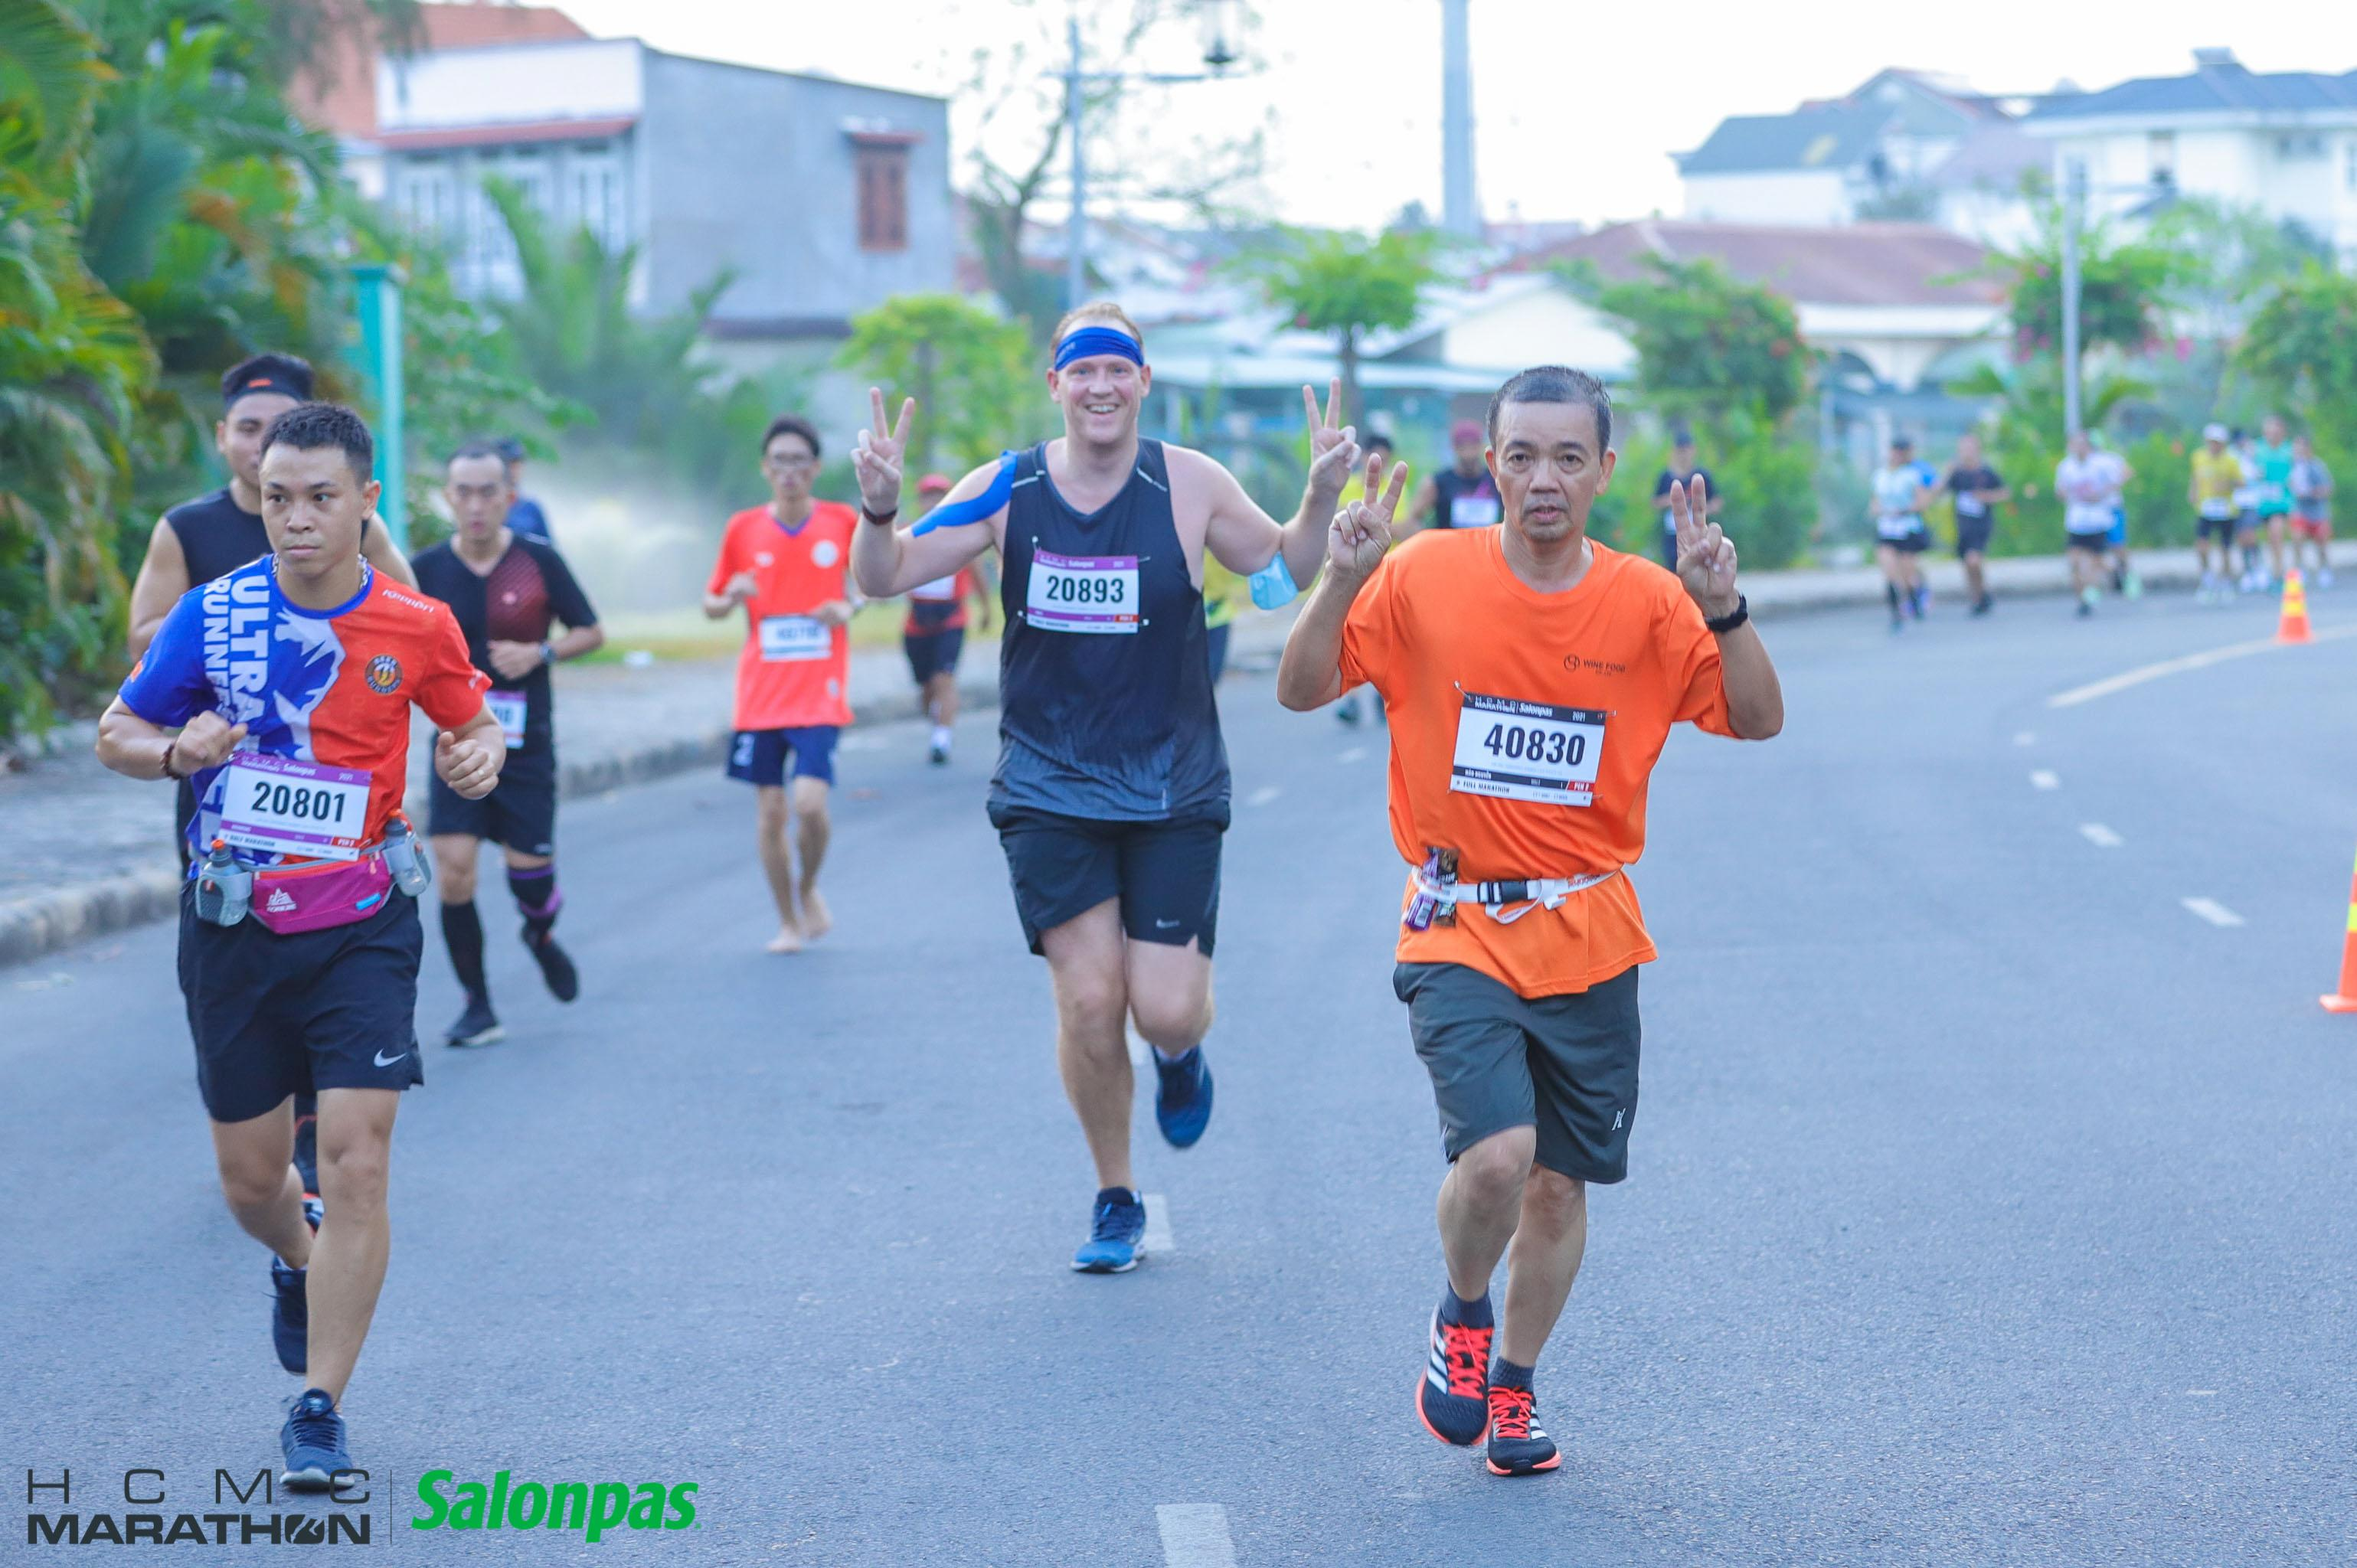bib: (1454, 695, 1606, 805), (217, 759, 373, 857), (1025, 551, 1136, 639), (759, 614, 835, 661), (481, 688, 528, 747)
